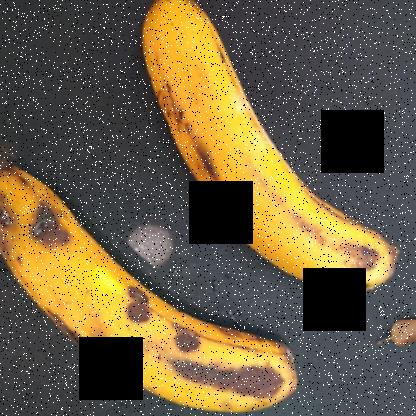overripe: (0, 153, 290, 415), (136, 0, 385, 296)
